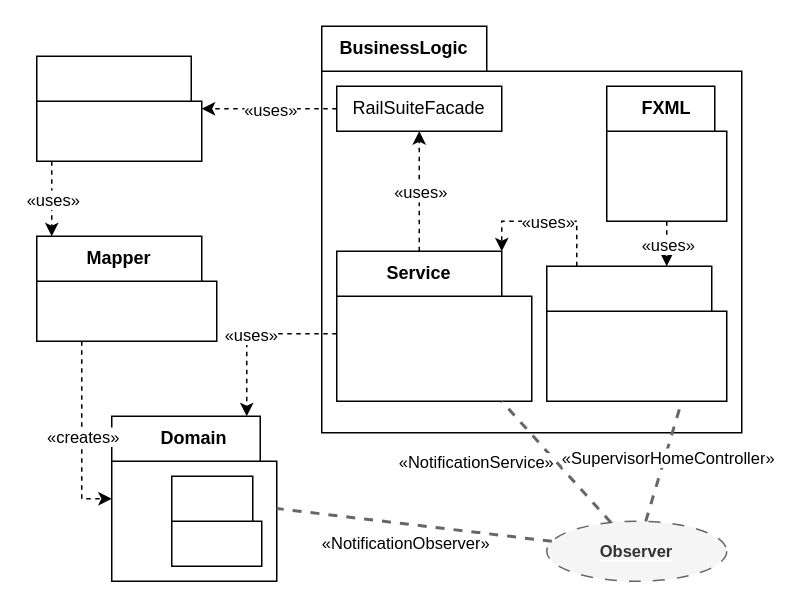
The diagram is 801 pixels wide and 608 high, and some of its shapes have lost their labels. The centre of each missing label's shape, as x and y in pixels:
"Controller" belongs at (636,333).
"Dao" belongs at (118,108).
"DTO" belongs at (216,520).
